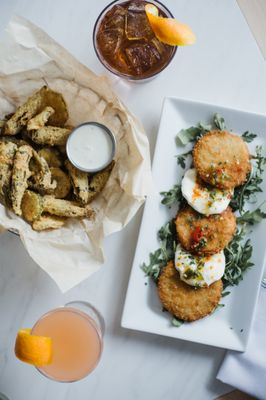sushi: (93, 0, 195, 85)
